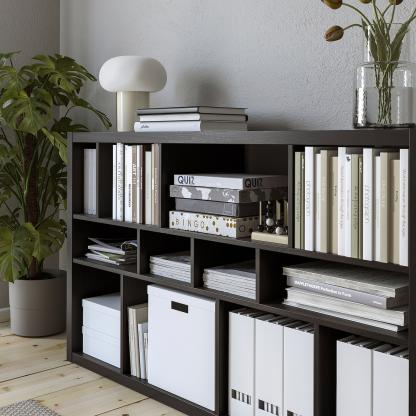lamp: (63, 127, 416, 416)
